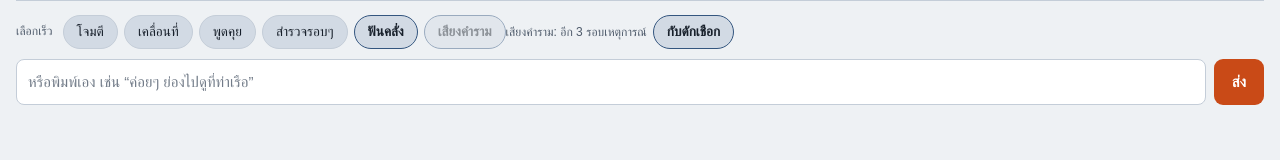
Scenario: ActionInput extra abilities › says so when there is no enemy to pick
This screenshot has width=1280, height=160.
Click the button "กับดักเชือก": [694, 32] box [653,15,734,49]
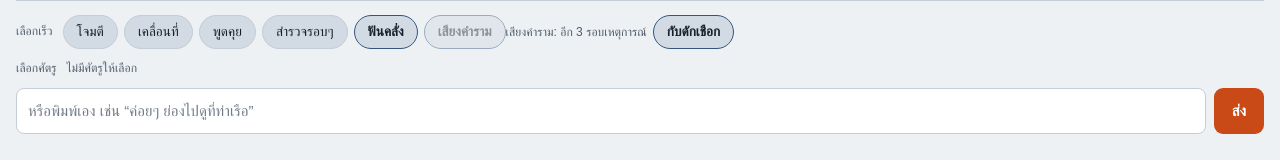
Now the text "ไม่มีศัตรูให้เลือก" is shown, box [66,59,137,78]
